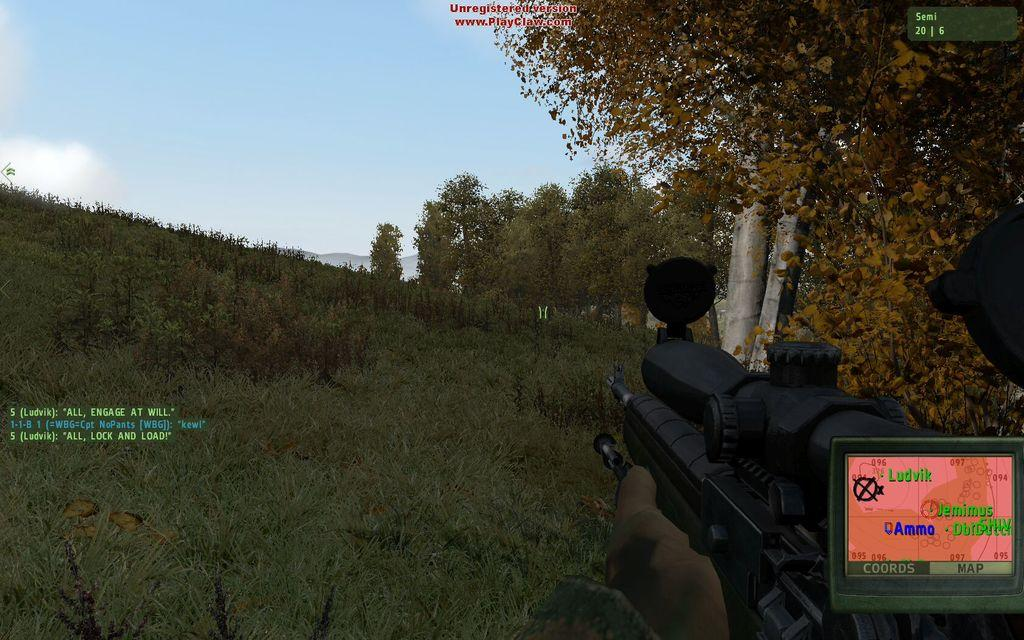Rifle: (594, 252, 1014, 639)
